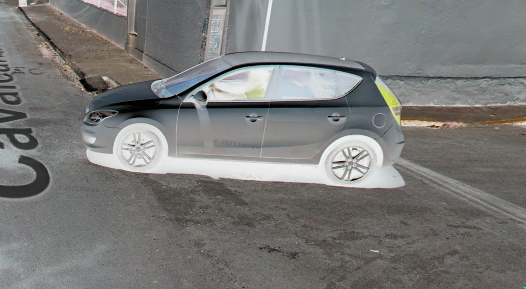car: (78, 42, 410, 193)
